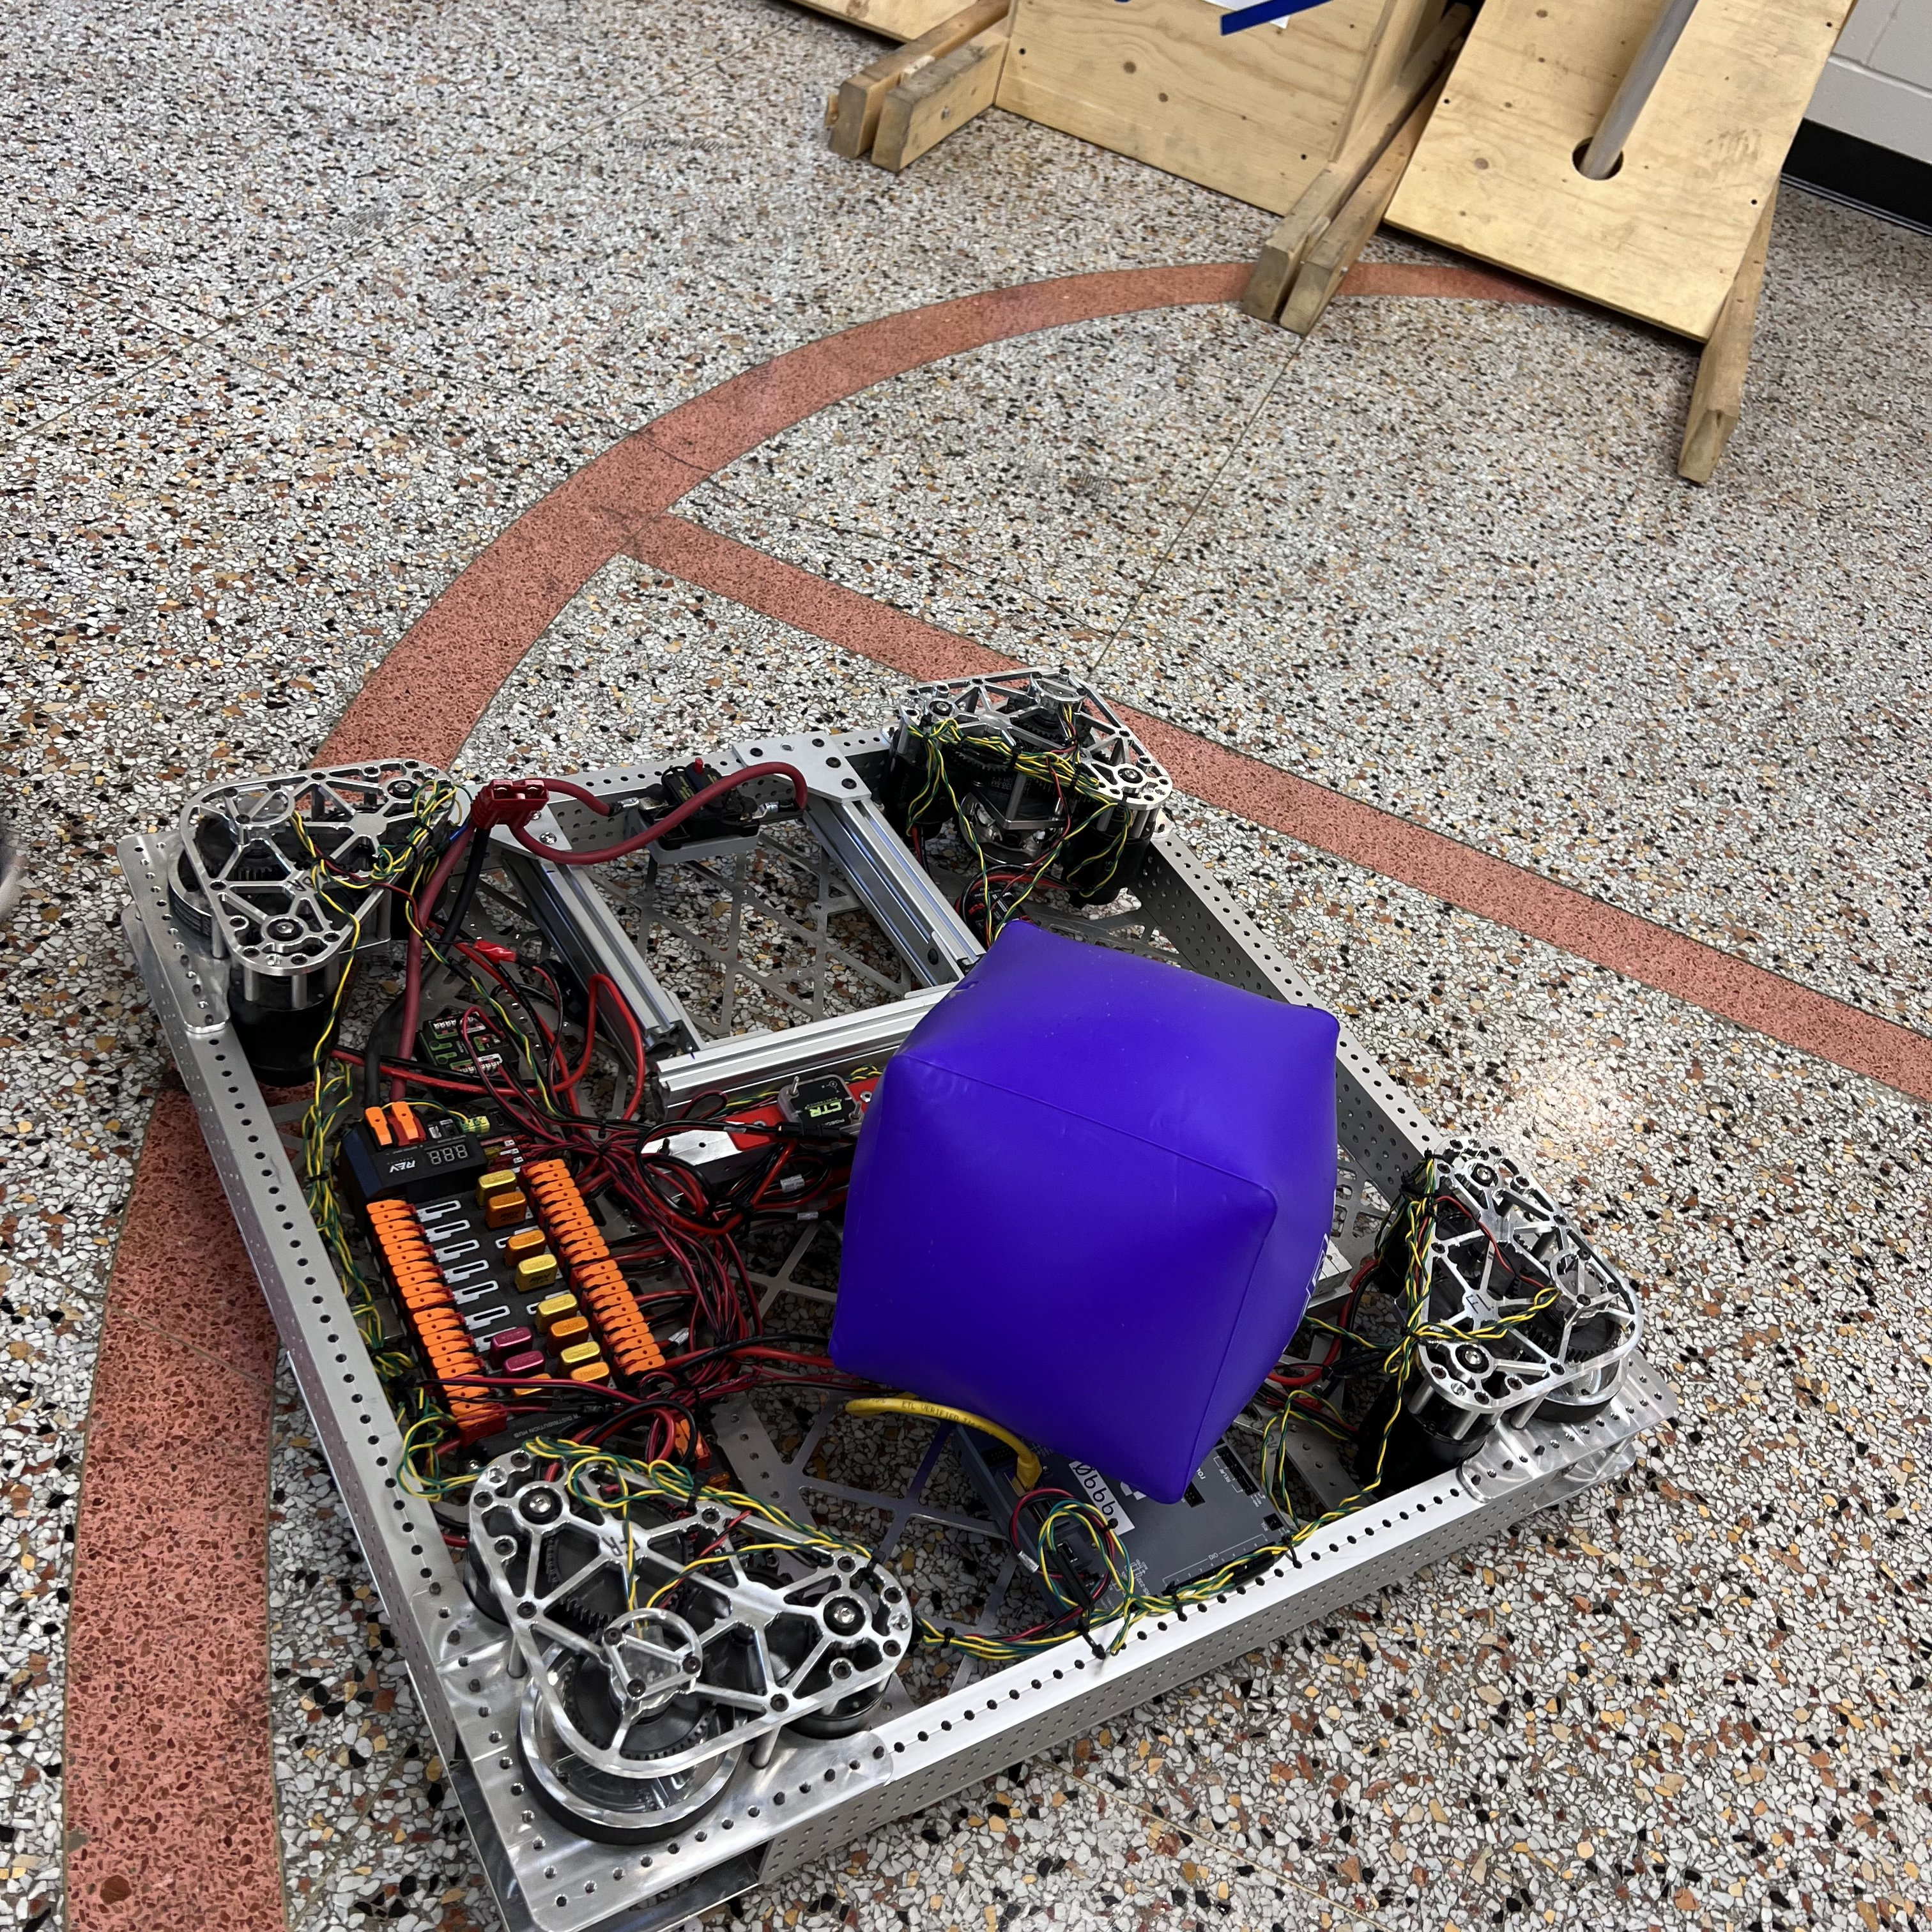cube: (830, 918, 1339, 1504)
